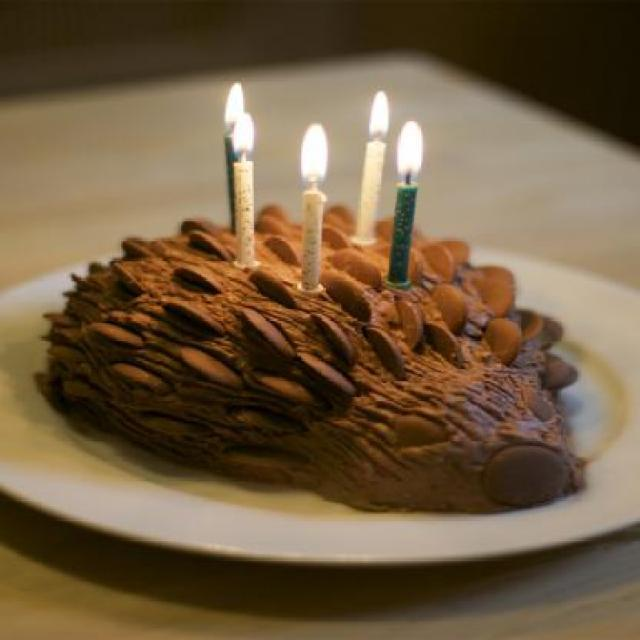Cake: (36, 202, 570, 513)
